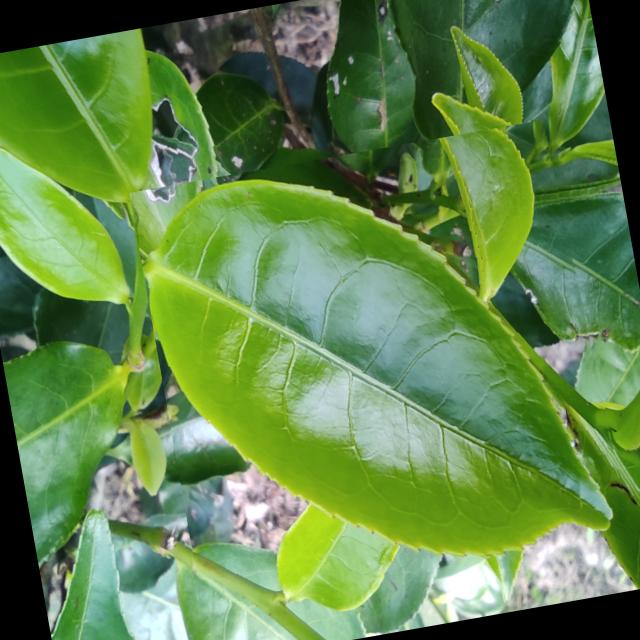Category B(2-4 days): (128, 116, 634, 620)
